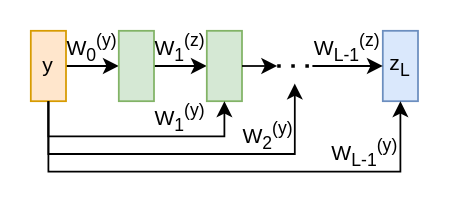
Image size: 449x216. Some labels were removed from this diagram. The centre of each missing label's shape, as x and y in pixels:
"z 1" belongs at (x=135, y=65).
"z 2" belongs at (x=223, y=65).
